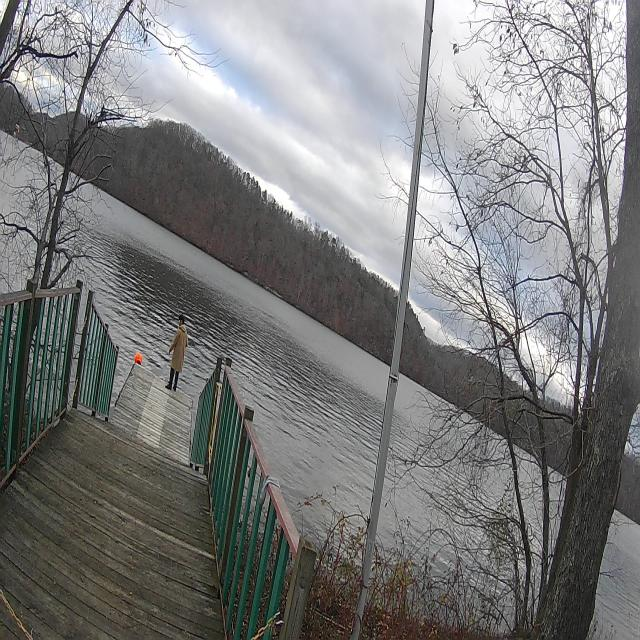Buoy: (132, 347, 144, 369)
